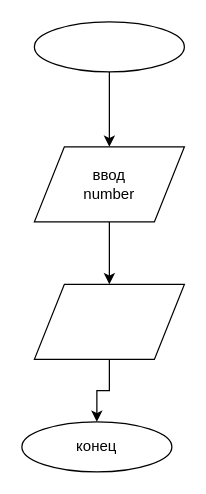
Some shapes in this 206 by 494 pixel diagram are drawn without their labels. The centre of each missing label's shape, as x and y in pixels:
вывод number[::-1]: (108,321)
начало: (108,46)
